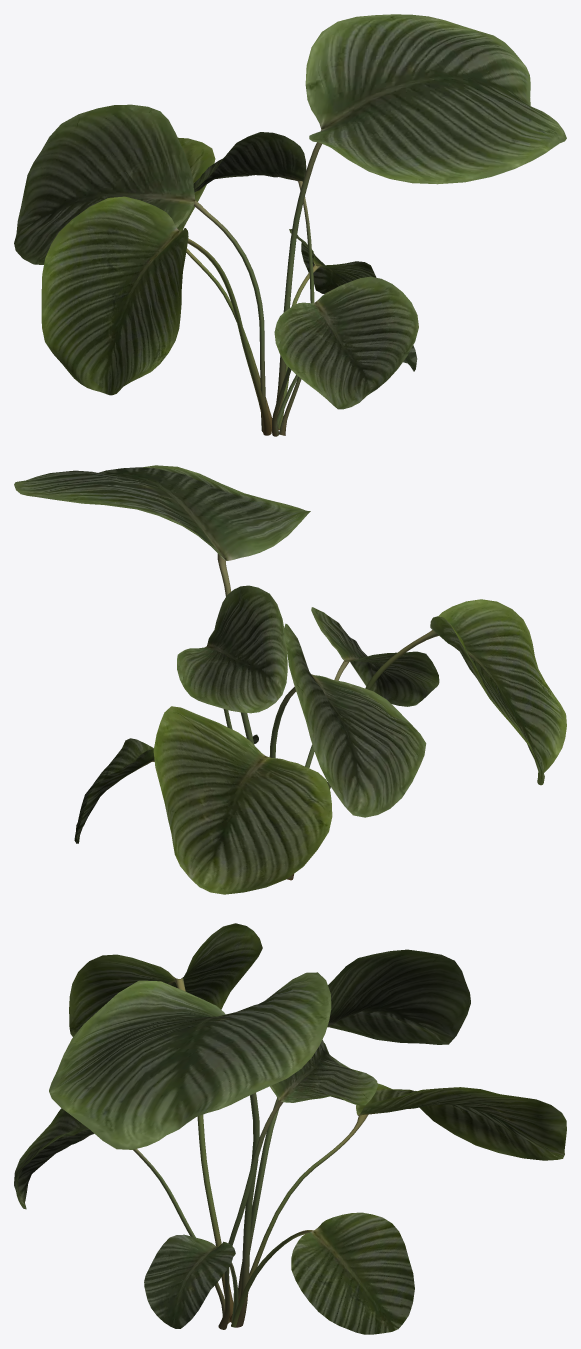
Rendered from calathea_mata.glb.
3 views of the same model, one above another, from view 1: azimuth 30°, elevation 25°; view 2: azimuth 150°, elevation 25°; view 3: azimuth 270°, elevation 25° (orthographic). The views are drawn at different scales.
Parts seen in each view (by area): view 1: calathea_orbifolia_01_a; view 2: calathea_orbifolia_01_a; view 3: calathea_orbifolia_01_a.
Part boxes in pixels (bbox=[...]): calathea_orbifolia_01_a: bbox=[14, 14, 566, 436]; calathea_orbifolia_01_a: bbox=[14, 465, 566, 894]; calathea_orbifolia_01_a: bbox=[14, 923, 566, 1334].
Size of the model in its own units: 0.6006 by 0.4243 by 0.5256.
1 material, 1 textured.
